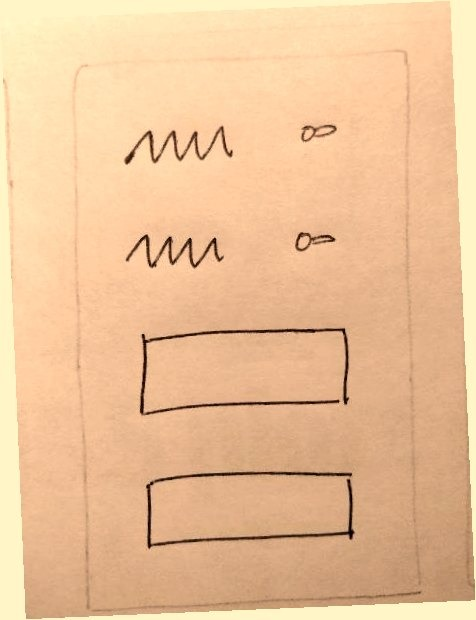switch: (277, 219, 363, 261), (289, 111, 355, 153)
text: (109, 113, 248, 177), (117, 219, 236, 283)
text_input: (127, 310, 366, 428), (130, 460, 369, 563)
